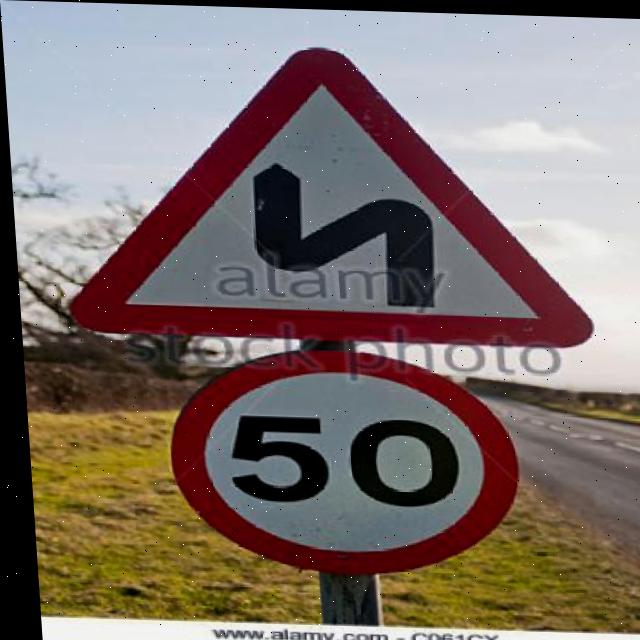Speed limit 50: (154, 341, 522, 580)
